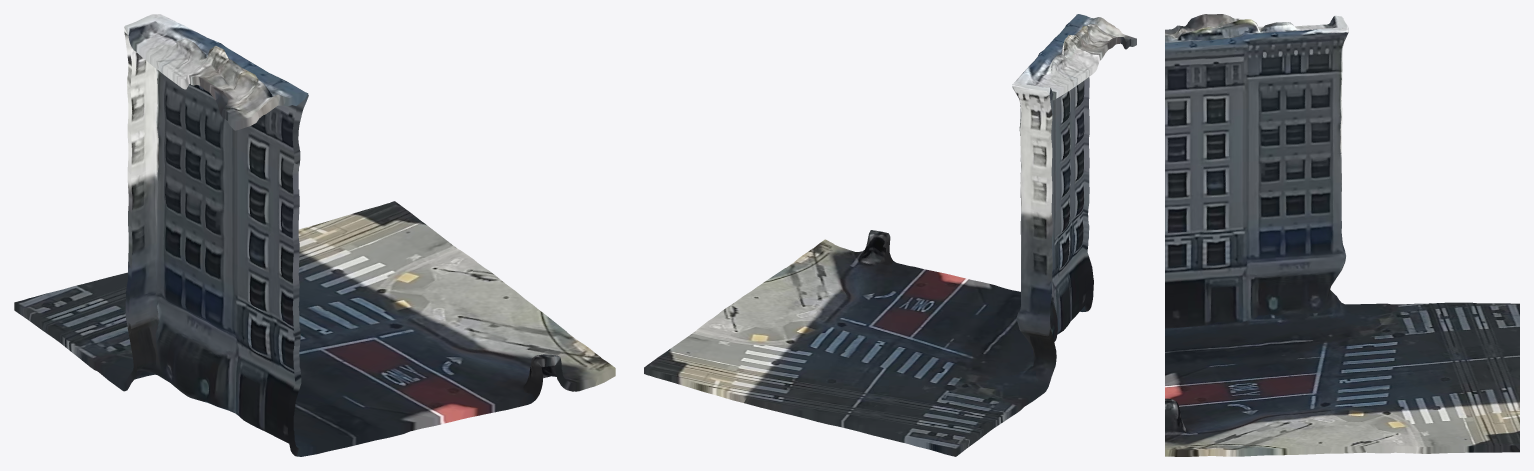
Rendered from z20-167748-405250-h0-yup-uvflip-v3-world.glb.
The picture shows the model from 3 angles, left to right: view 1: azimuth 30°, elevation 25°; view 2: azimuth 150°, elevation 25°; view 3: azimuth 270°, elevation 25°; orthographic projection. The views are drawn at different scales.
Bounding box in the file's own units: 30.16 × 29.04 × 30.32.
1 material, 1 textured.
